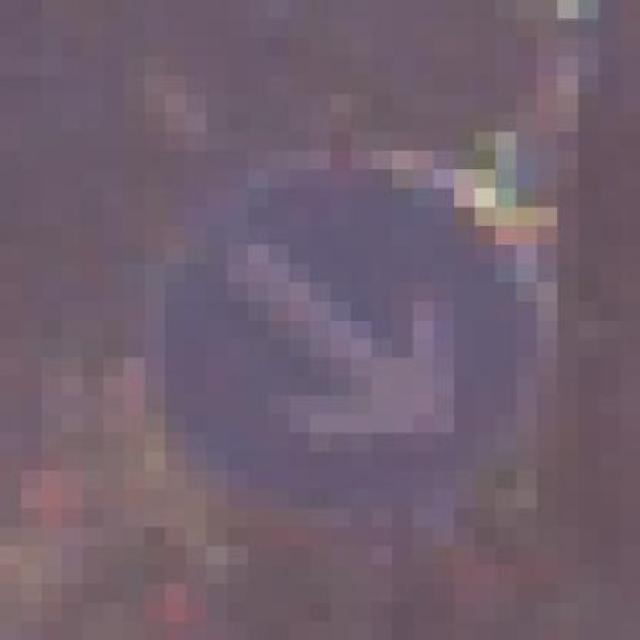Keep-Right: (124, 94, 599, 583)
